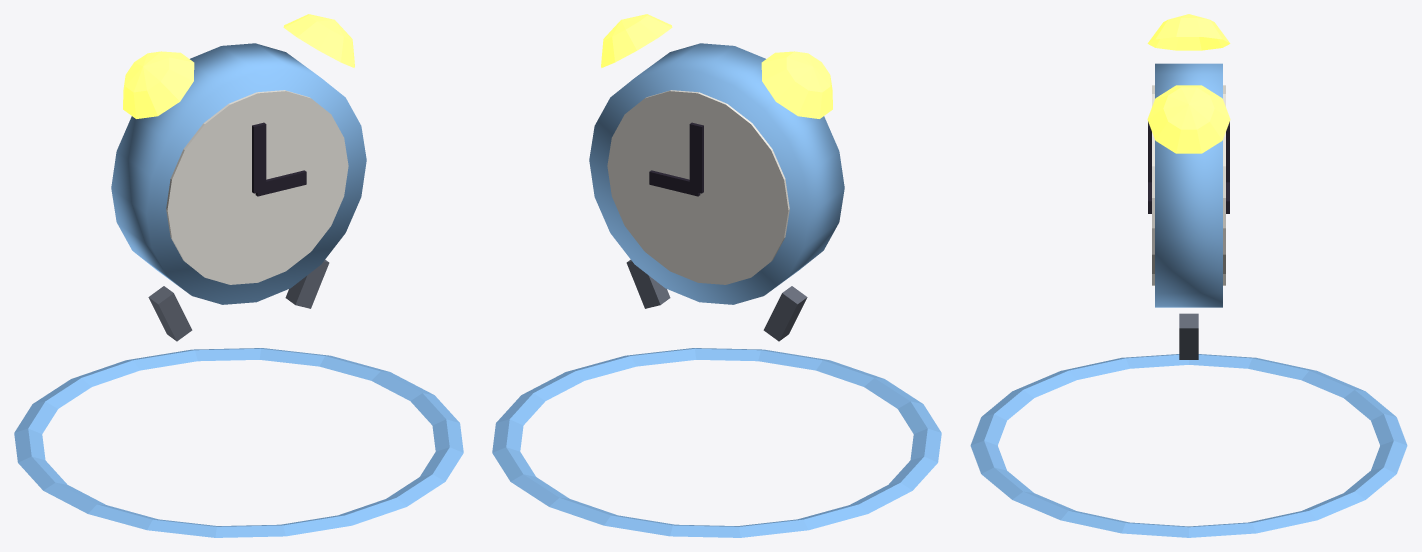
Rendered from pu_time.glb.
3 views of the same model, side by side, from view 1: azimuth 30°, elevation 25°; view 2: azimuth 150°, elevation 25°; view 3: azimuth 270°, elevation 25° (orthographic). The views are drawn at different scales.
Parts seen in each view (by area): view 1: pu_time; view 2: pu_time; view 3: pu_time.
Part boxes in pixels (x1,y1,x2,y2): pu_time: (14,14,463,537); pu_time: (492,14,941,537); pu_time: (970,14,1407,537).
Size of the model in its own units: 1.6 by 1.61 by 1.6.
